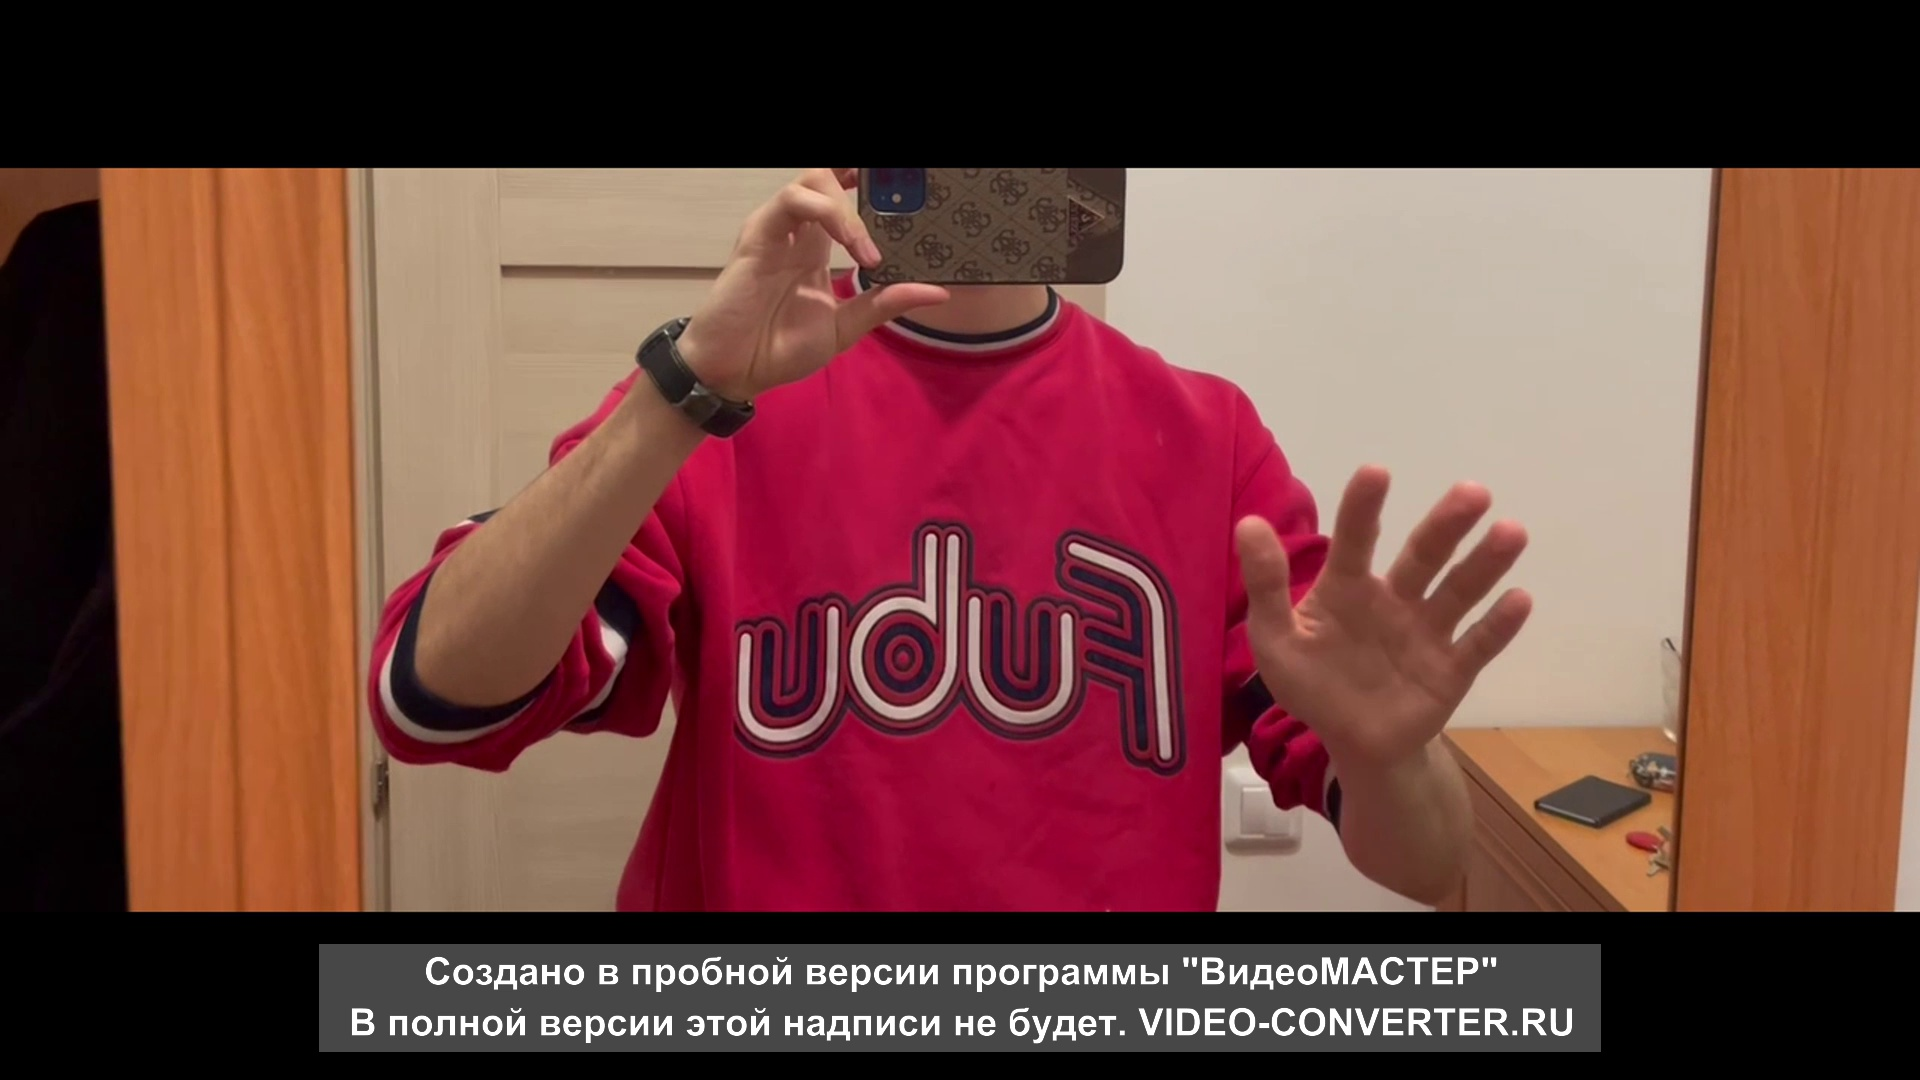Ладонь: (1238, 462, 1536, 757)
